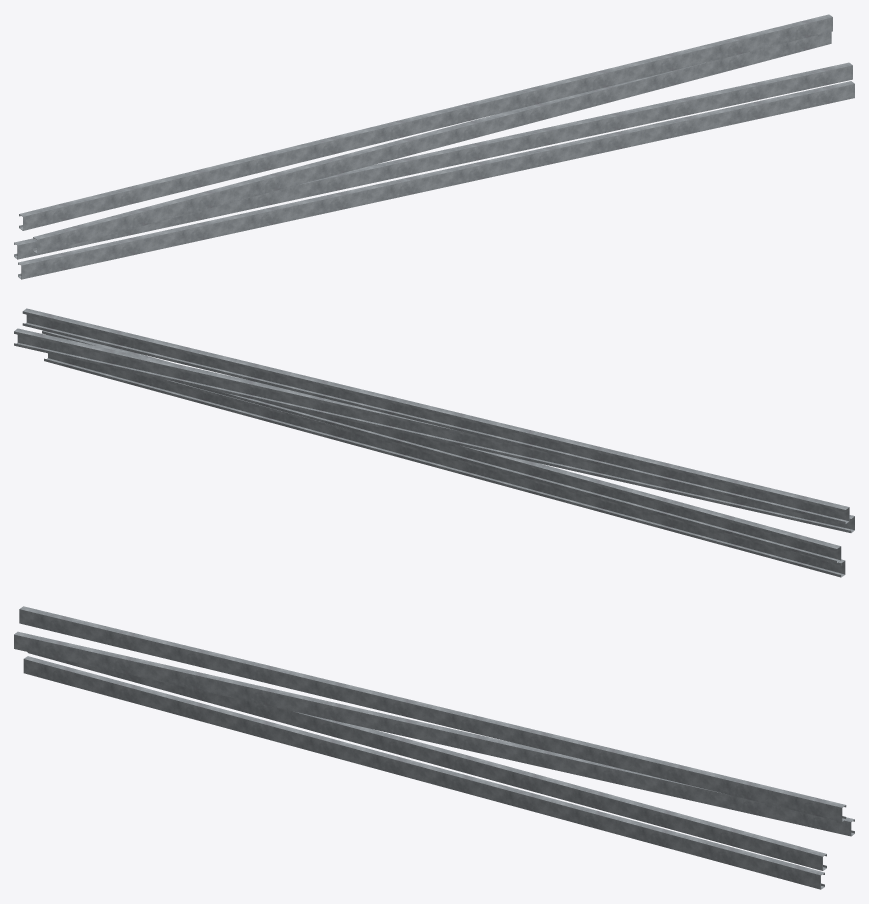
Rendered from COB-MET-002_anim.glb.
3 views of the same model, one above another, from view 1: azimuth 30°, elevation 25°; view 2: azimuth 150°, elevation 25°; view 3: azimuth 330°, elevation 25° (orthographic).
Parts seen in each view (by area): view 1: COB-MET-002_anim0, COB-MET-002_anim3, COB-MET-002_anim2, COB-MET-002_anim1; view 2: COB-MET-002_anim3, COB-MET-002_anim2, COB-MET-002_anim0, COB-MET-002_anim1; view 3: COB-MET-002_anim3, COB-MET-002_anim0, COB-MET-002_anim2, COB-MET-002_anim1.
Part boxes in pixels (<box>): COB-MET-002_anim0: <box>18,81,854,279</box>; COB-MET-002_anim3: <box>19,14,832,230</box>; COB-MET-002_anim2: <box>33,32,831,253</box>; COB-MET-002_anim1: <box>14,62,852,259</box>; COB-MET-002_anim3: <box>22,308,849,524</box>; COB-MET-002_anim2: <box>14,328,854,532</box>; COB-MET-002_anim0: <box>44,353,845,577</box>; COB-MET-002_anim1: <box>42,330,841,563</box>; COB-MET-002_anim3: <box>19,606,846,821</box>; COB-MET-002_anim0: <box>23,656,824,889</box>; COB-MET-002_anim2: <box>14,631,854,836</box>; COB-MET-002_anim1: <box>27,652,826,870</box>.
Size of the model in its own units: 6.03 by 0.46 by 0.3913.
1 material, 1 textured.
